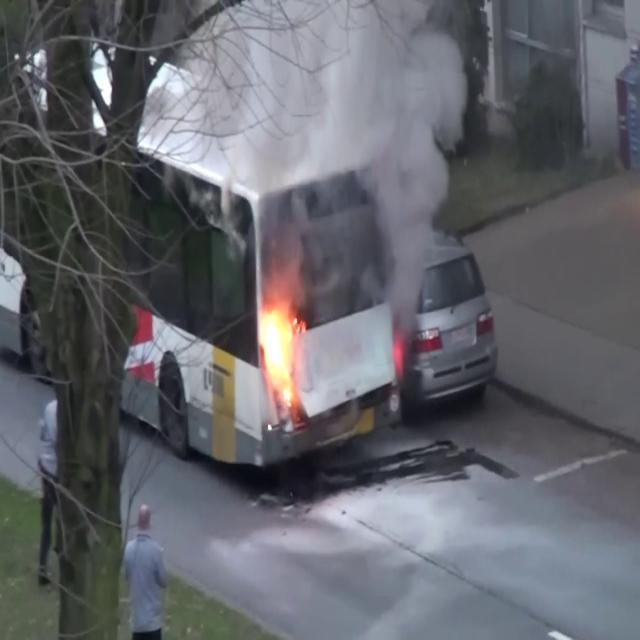Fire: (255, 284, 302, 409)
Smoke: (263, 0, 481, 310)
